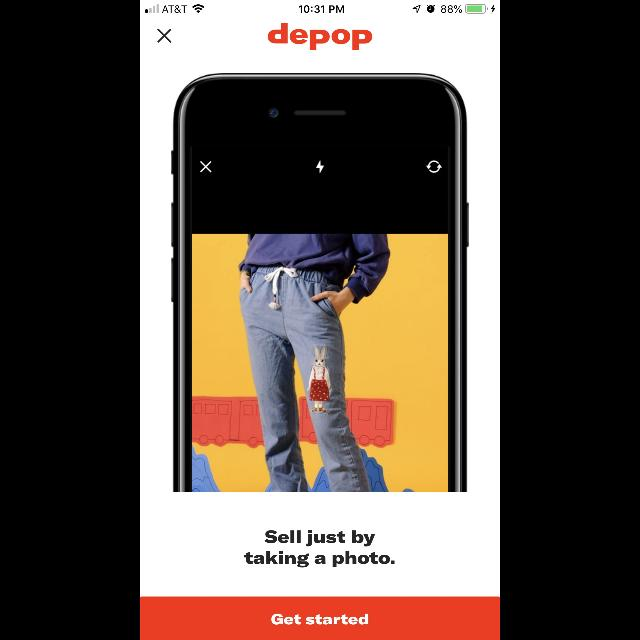icon: (158, 29, 172, 43)
image: (171, 72, 469, 492)
text: (244, 530, 394, 568), (268, 24, 372, 51)
textbutton: (140, 596, 500, 640)
uppertaskbar: (140, 0, 500, 14)
